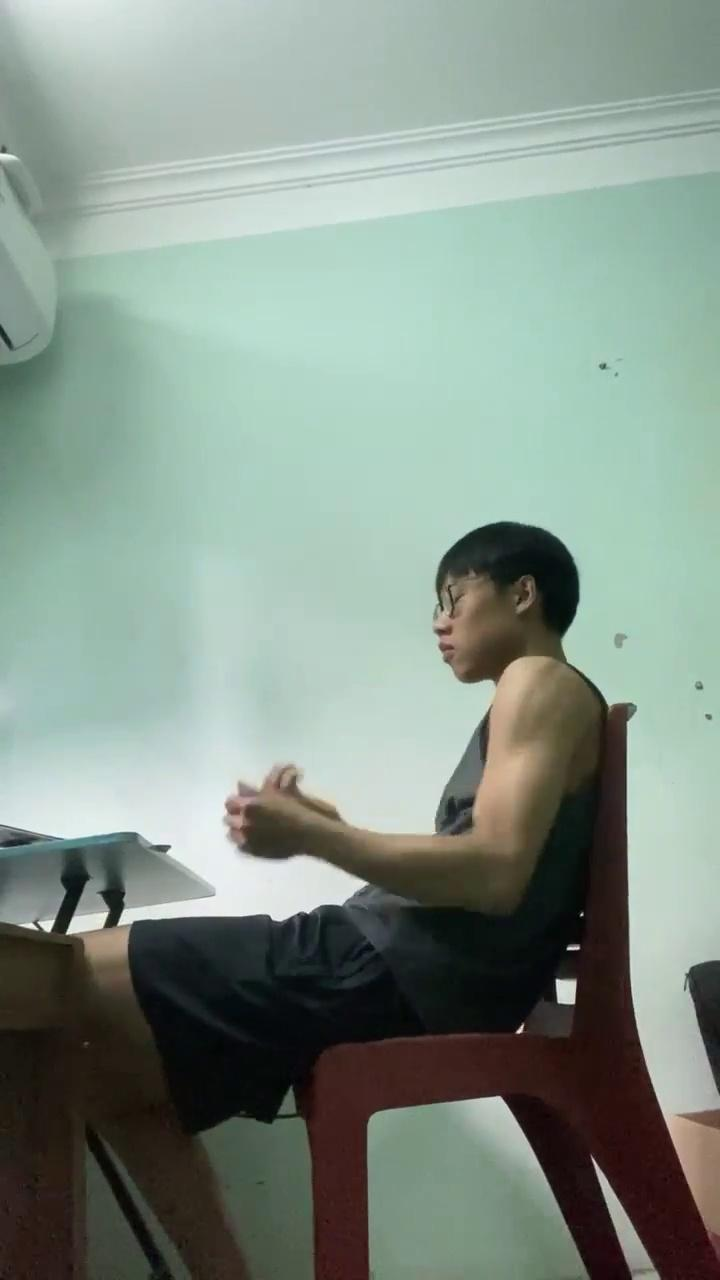BadPosture: (17, 528, 621, 1255)
